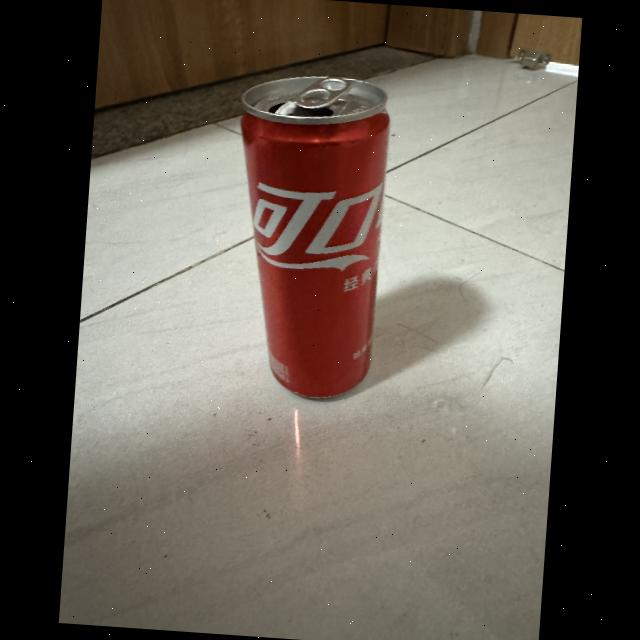Cola: (206, 58, 412, 410)
